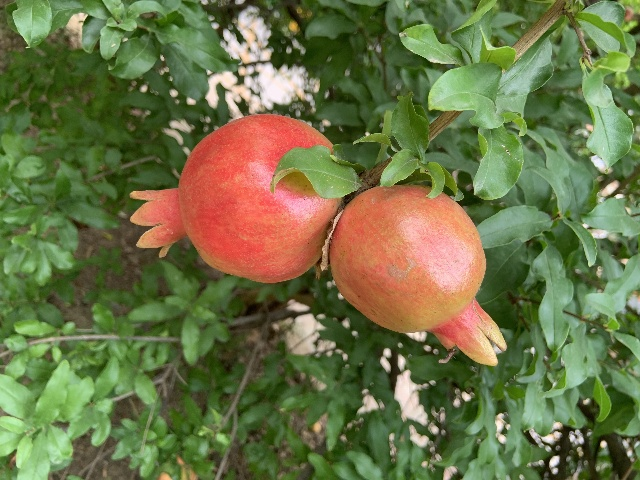ripe: (129, 114, 341, 282), (330, 184, 506, 366)
